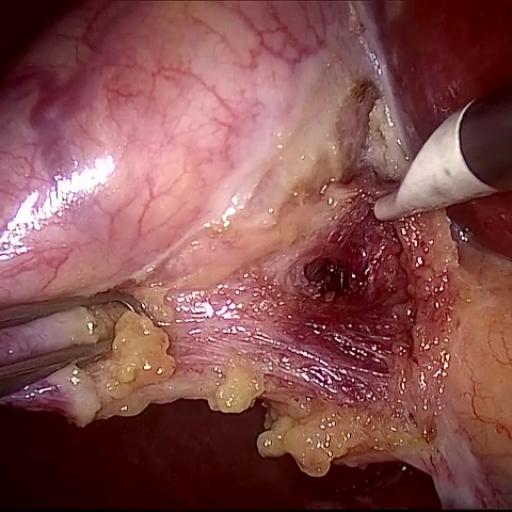Grasper: (0, 246, 150, 416)
Hook: (355, 77, 495, 255)
